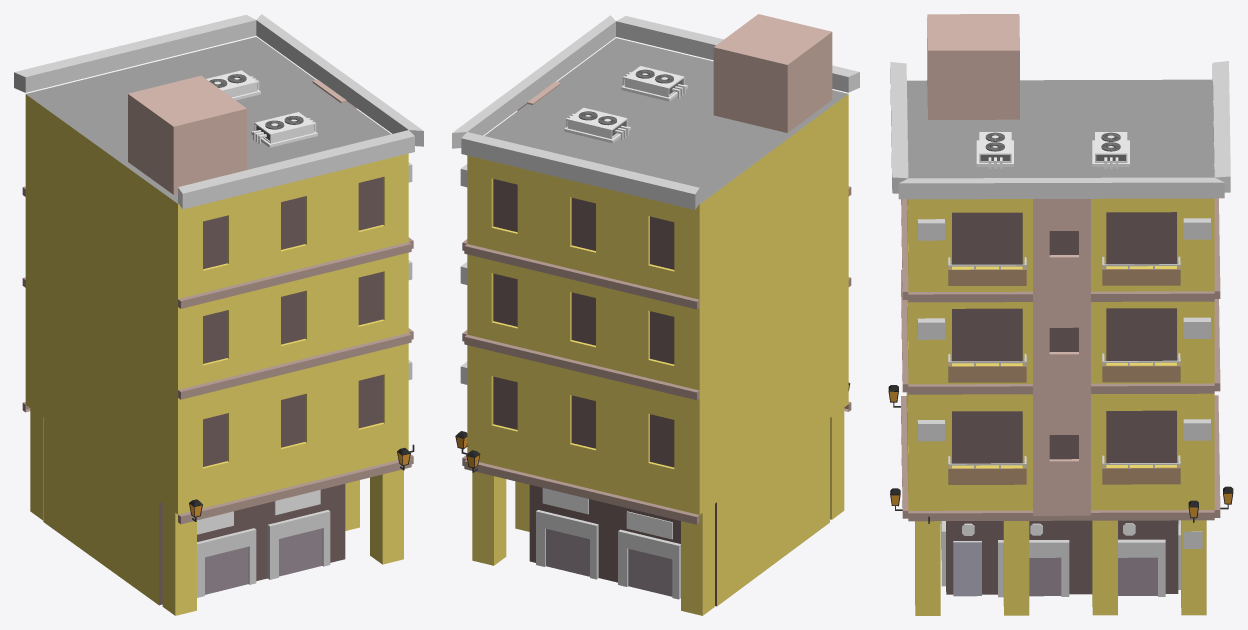
Rendered from Building_20_tran.glb.
The picture shows the model from 3 angles, left to right: view 1: azimuth 30°, elevation 25°; view 2: azimuth 150°, elevation 25°; view 3: azimuth 270°, elevation 25°; orthographic projection.
Parts seen in each view (by area): view 1: Cube.2240, Cube.2246, Plane.412, Cube.2242, Cube.2264, Cube.2266, Cube.2245, Cube.2244, Cube.2243, Cube.13796, Cube.13795, Plane.425 (+1 smaller); view 2: Cube.2240, Cube.2246, Plane.412, Cube.2242, Cube.2263, Cube.2265, Cube.2245, Cube.2244, Cube.2243, Cube.13796, Cube.13795, Plane.423 (+1 smaller); view 3: Cube.2240, Plane.414, Cube.2246, Plane.412, Cube.2242, Cube.2243, Cube.2245, Cube.2244, Cube.2274, Cube.2273, Cube.2249, Cube.2248 (+13 smaller).
Boxes of the visible parts, bbox=[...] form: Cube.2240: bbox=[25, 37, 408, 605]; Cube.2246: bbox=[14, 14, 423, 209]; Plane.412: bbox=[128, 75, 246, 194]; Cube.2242: bbox=[30, 408, 403, 615]; Cube.2264: bbox=[267, 510, 330, 579]; Cube.2266: bbox=[197, 528, 256, 597]; Cube.2245: bbox=[22, 186, 413, 308]; Cube.2244: bbox=[22, 277, 413, 399]; Cube.2243: bbox=[22, 402, 413, 524]; Cube.13796: bbox=[251, 112, 317, 147]; Cube.13795: bbox=[206, 70, 260, 100]; Plane.425: bbox=[274, 490, 320, 515]; Cube.2240: bbox=[467, 38, 848, 606]; Cube.2246: bbox=[452, 15, 859, 209]; Plane.412: bbox=[713, 14, 832, 132]; Cube.2242: bbox=[472, 408, 844, 615]; Cube.2263: bbox=[618, 529, 680, 599]; Cube.2265: bbox=[536, 510, 598, 579]; Cube.2245: bbox=[462, 186, 851, 309]; Cube.2244: bbox=[462, 277, 851, 400]; Cube.2243: bbox=[462, 401, 851, 524]; Cube.13796: bbox=[621, 66, 687, 101]; Cube.13795: bbox=[564, 107, 630, 143]; Plane.423: bbox=[626, 511, 672, 539]; Cube.2240: bbox=[906, 79, 1214, 594]; Plane.414: bbox=[1033, 199, 1090, 515]; Cube.2246: bbox=[890, 61, 1230, 199]; Plane.412: bbox=[927, 14, 1019, 119]; Cube.2242: bbox=[915, 520, 1206, 615]; Cube.2243: bbox=[901, 395, 1220, 521]; Cube.2245: bbox=[901, 198, 1220, 302]; Cube.2244: bbox=[901, 269, 1220, 394]; Cube.2274: bbox=[1118, 539, 1165, 596]; Cube.2273: bbox=[998, 540, 1069, 597]; Cube.2249: bbox=[1102, 353, 1180, 382]; Cube.2248: bbox=[948, 353, 1026, 382].
Bounding box in the file's own units: 0.3015 × 0.5467 × 0.3482.
